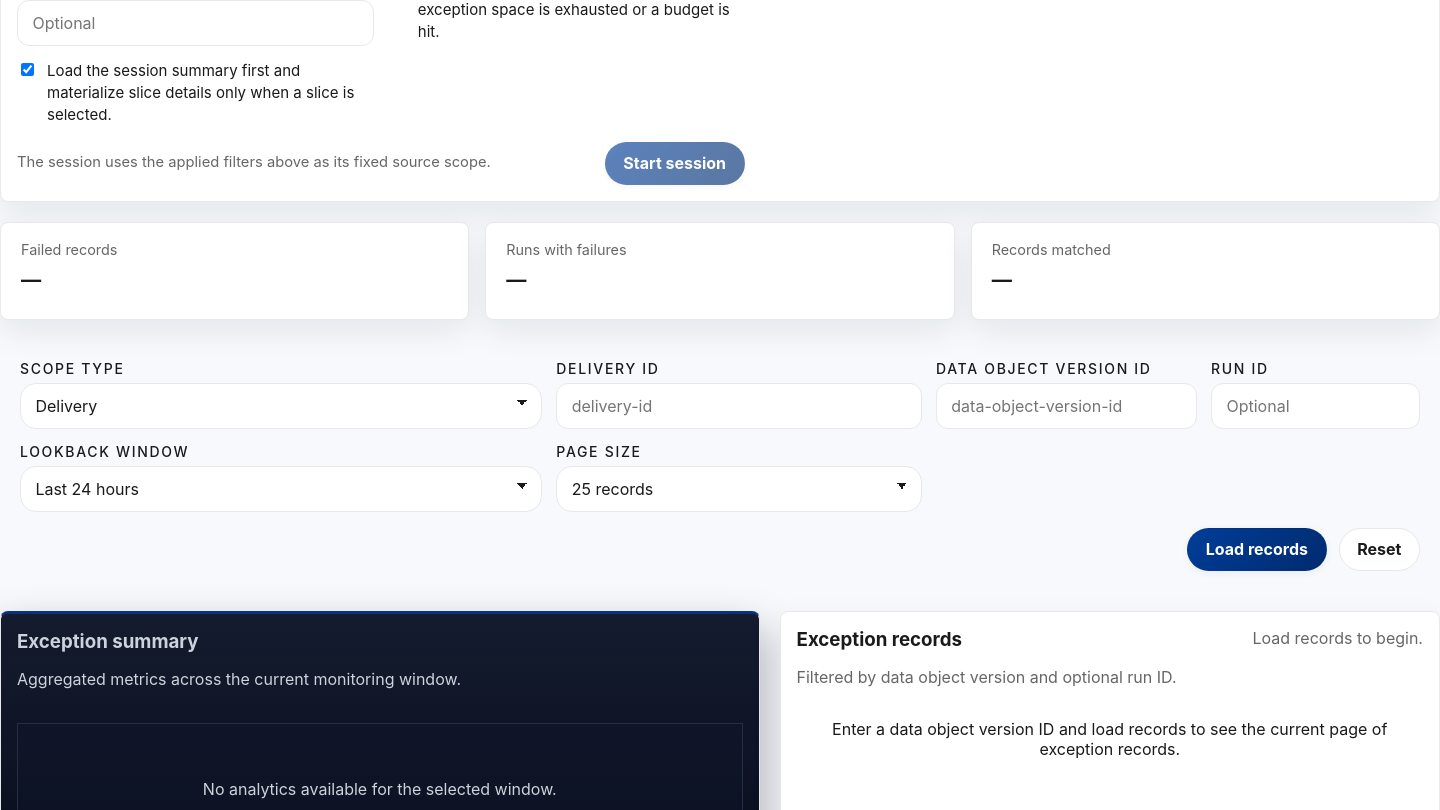
Test case: ExceptionRecordHandling › loads investigator detail when the selected fact changes
This screenshot has width=1440, height=810.
(page scrolled)
Type "delivery-1" into the field with placeholder "delivery-id" at [739, 406], box [556,383,922,429]
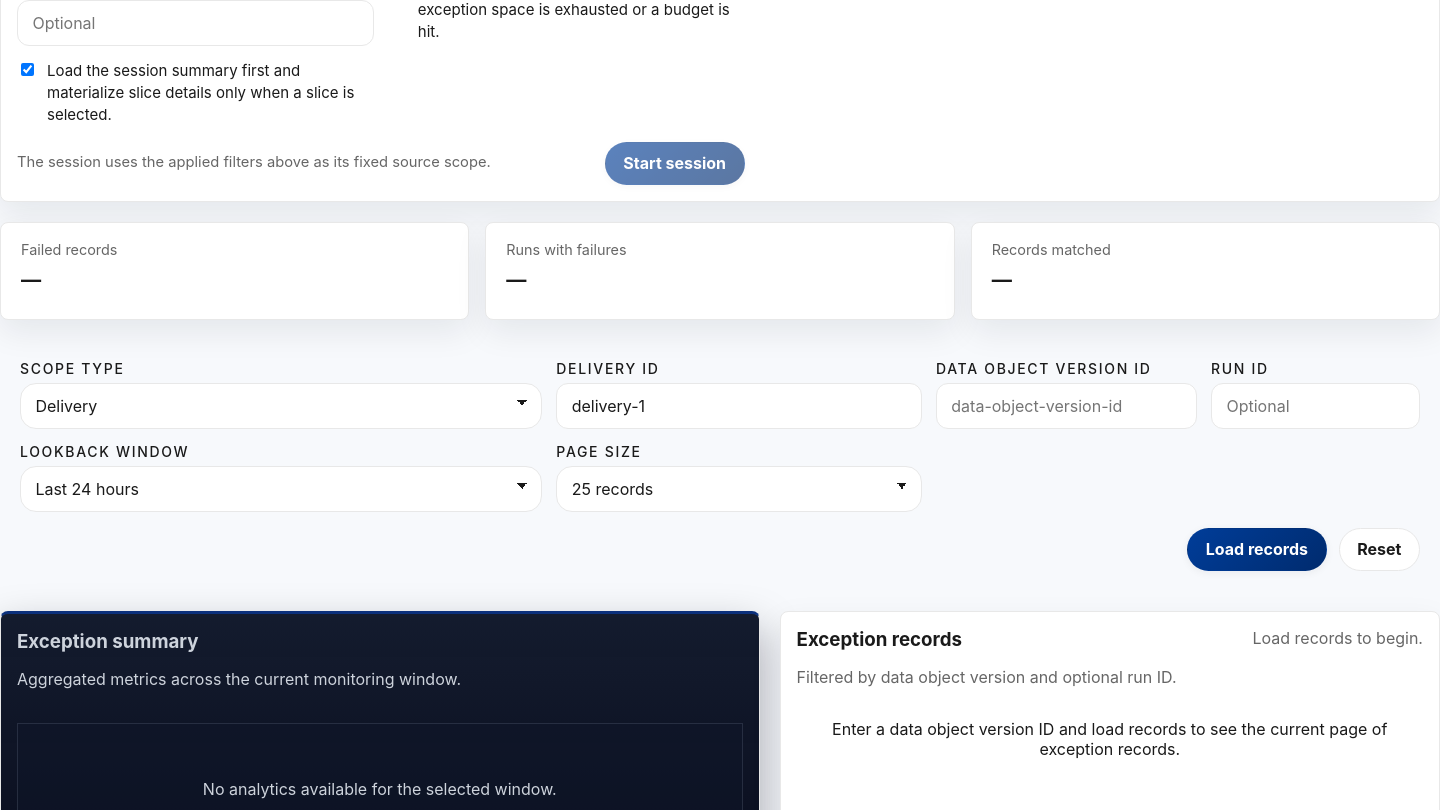
Type "dov-1" into the field with placeholder "data-object-version-id" at [1066, 406], box [936,383,1197,429]
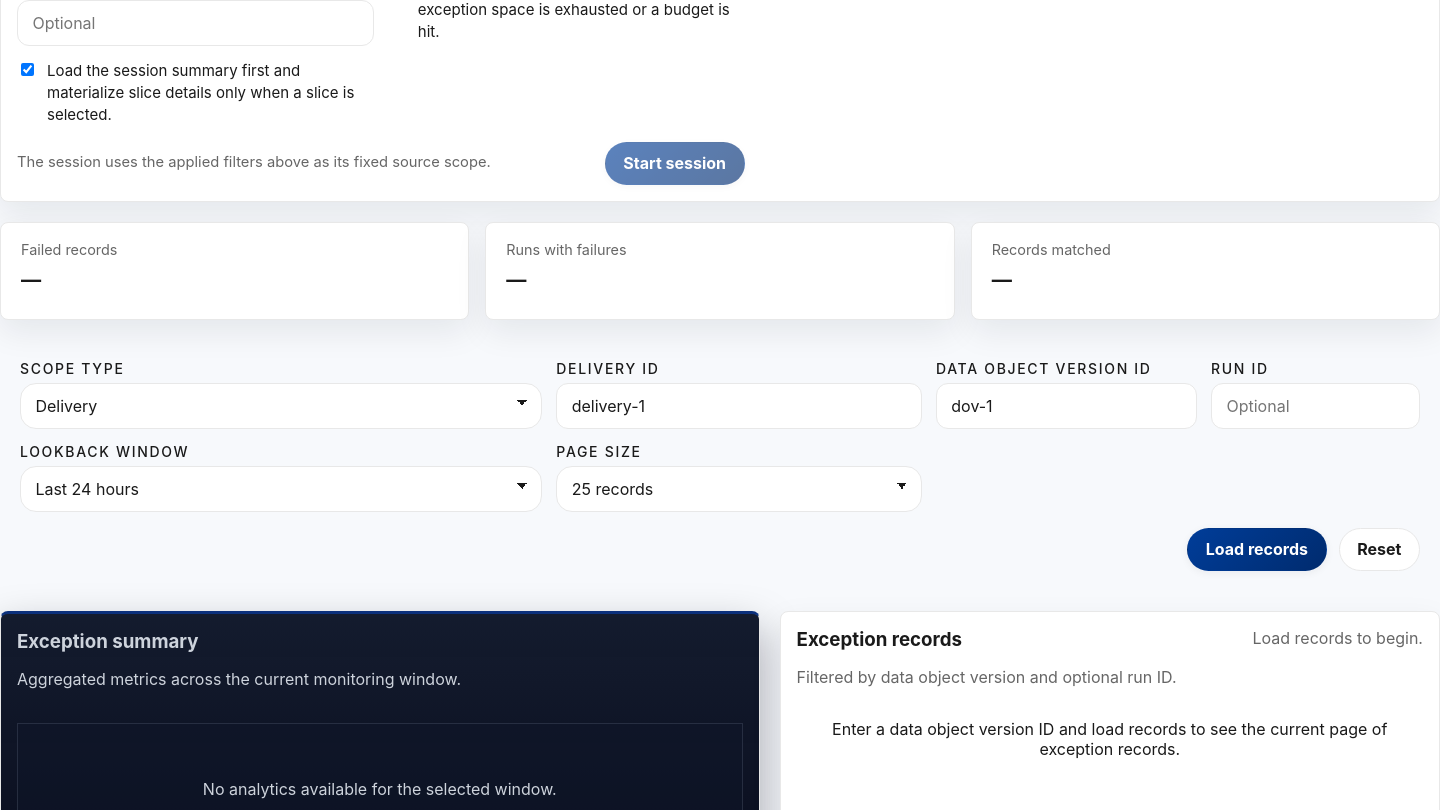
Click the button "Load records" at [1257, 549], box [1187,528,1327,570]
(page scrolled)
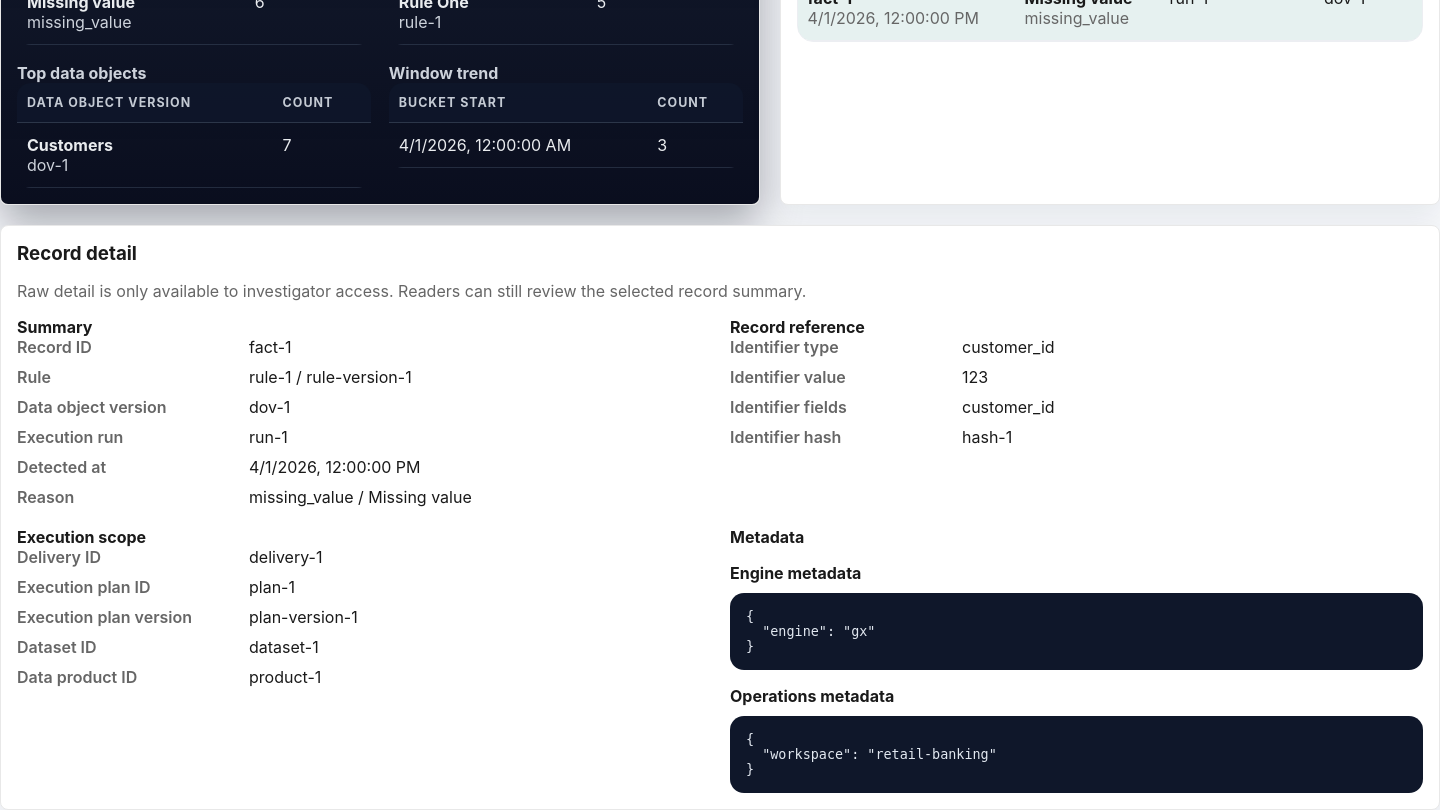
Expected: the text "Engine metadata" is shown, [730,562,861,582]
Expected: the text "Operations metadata" is shown, [730,686,894,706]
